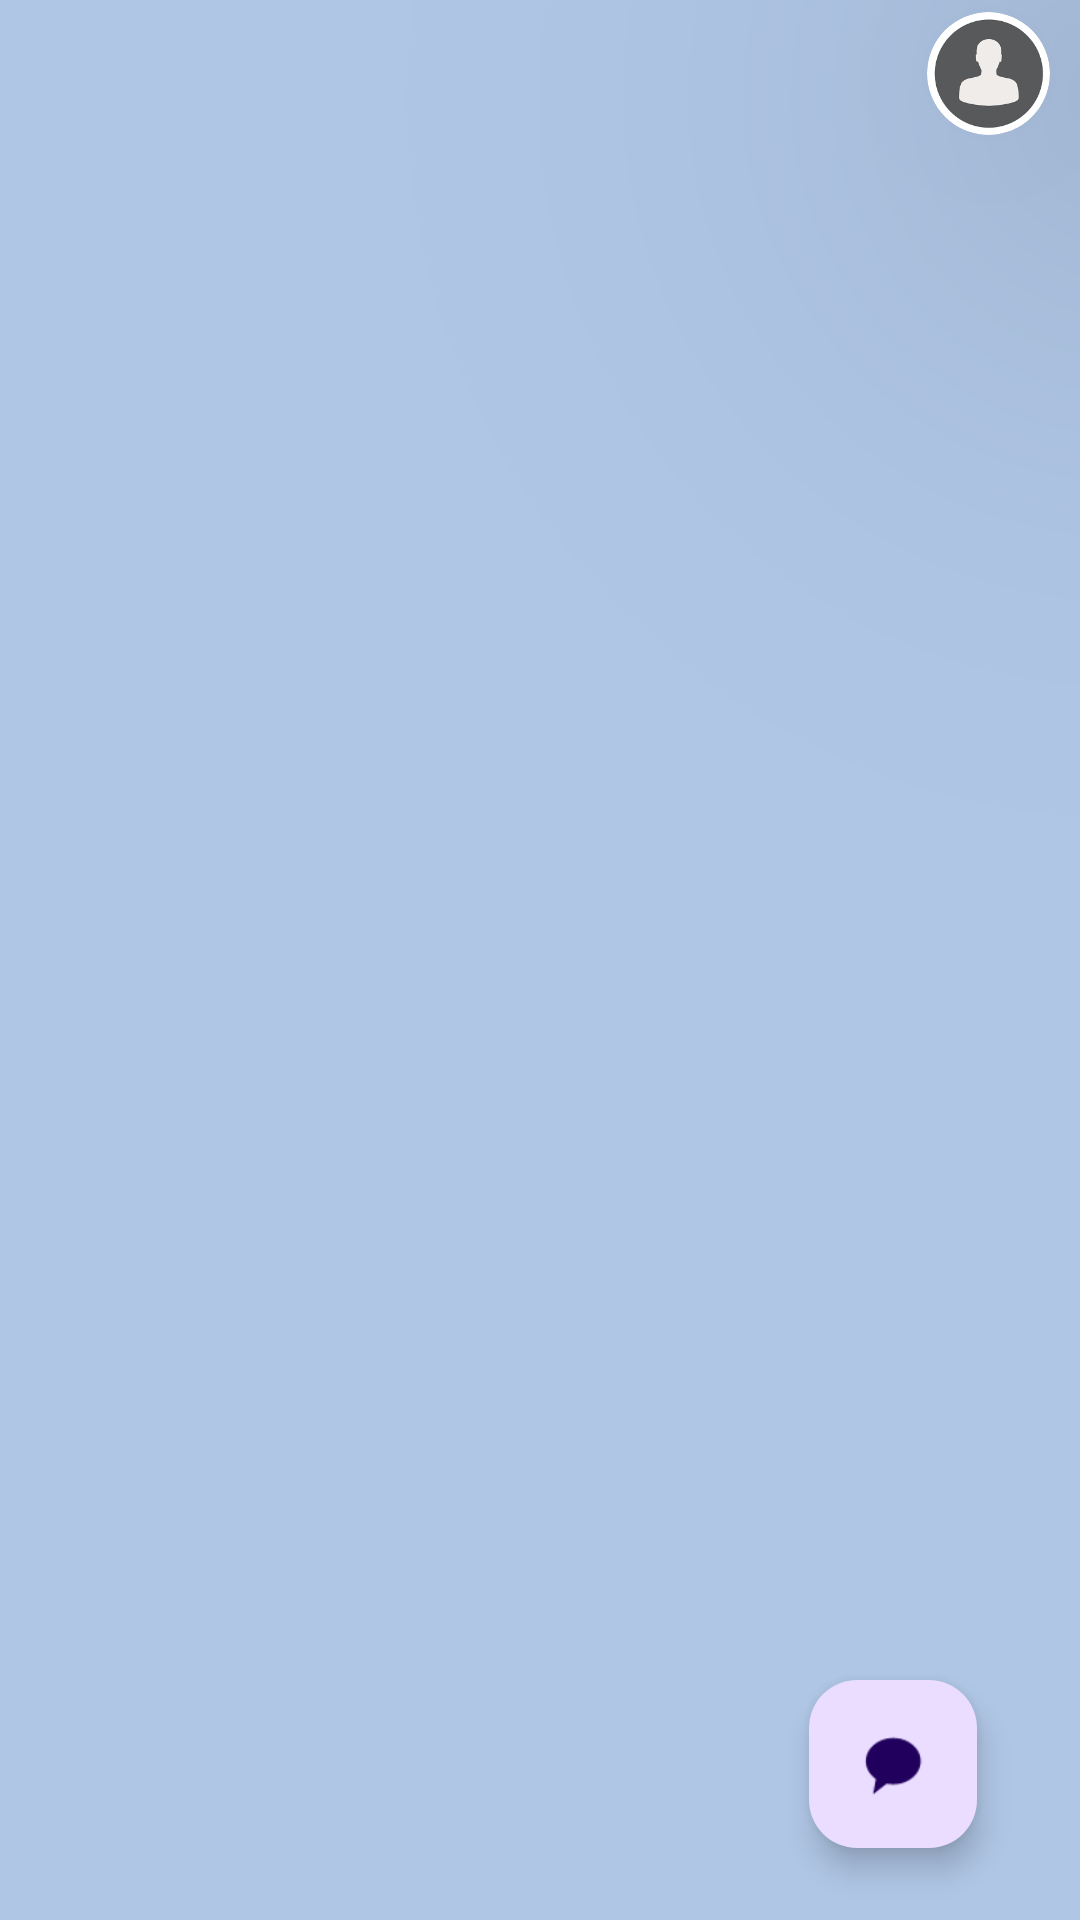

Icon click points for this 1080*1920 phone screenshot, format (x,y):
sym action chat: (893,1764)
